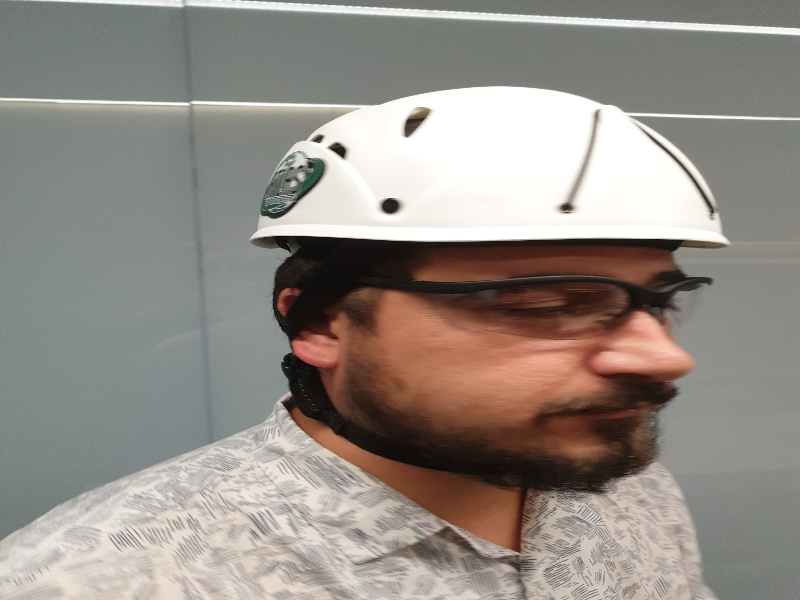Baret: (252, 85, 732, 254)
Gozluk: (290, 273, 717, 338)
